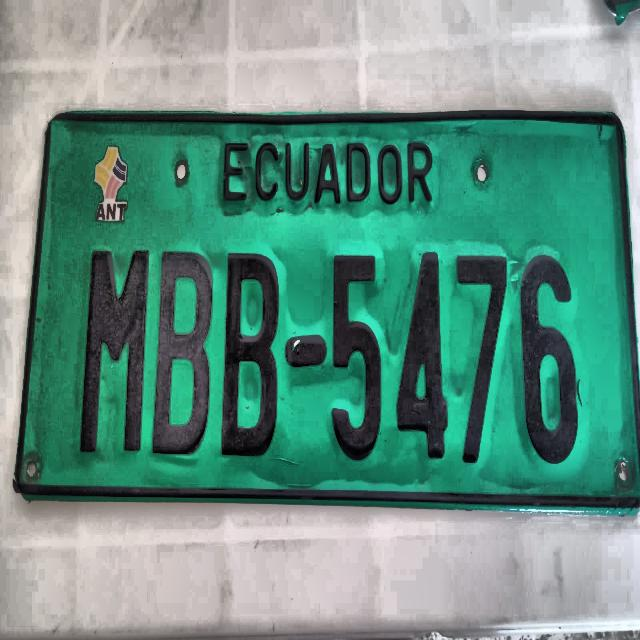license_plate: (3, 97, 640, 514)
